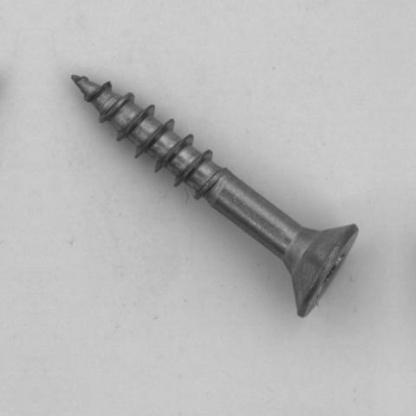metal: (70, 72, 359, 317)
